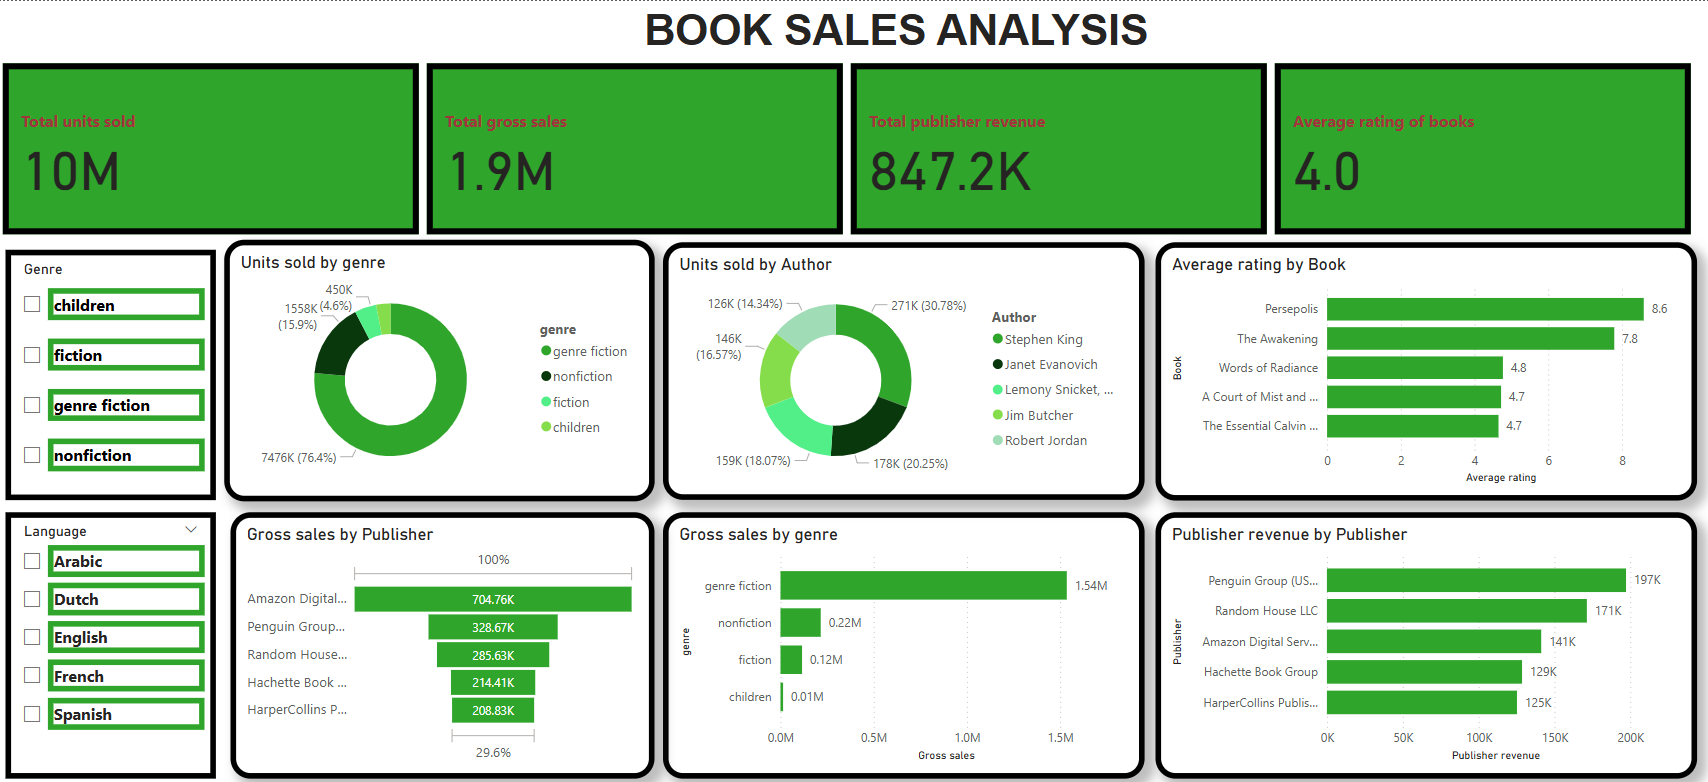

The page's visual inventory and layout, read from the dashboard file:
{"tool":"powerbi","page":{"name":"Dashboard","canvas":[1720,800],"ordinal":0},"visuals":[{"type":"cardVisual","fields":{"Data":["Books_Data_Clean.units sold","Books_Data_Clean.gross sales","Books_Data_Clean.publisher revenue","Books_Data_Clean.avg"]},"box":[0,57.5,1698.8,181.2],"z":0},{"type":"donutChart","fields":{"Category":["Books_Data_Clean.genre"],"Y":["Books_Data_Clean.units sold"]},"box":[226.2,238.8,430,261.2],"z":1000},{"type":"barChart","fields":{"Category":["Books_Data_Clean.Book Name"],"Y":["Books_Data_Clean.Book_average_rating"]},"box":[1157.5,241.2,541.2,258.8],"z":2000},{"type":"slicer","fields":{"Values":["Books_Data_Clean.genre"]},"box":[8,248.8,210,250],"z":3000},{"type":"slicer","fields":{"Values":["Books_Data_Clean.Language"]},"box":[7.5,511.2,210,266.2],"z":4000},{"type":"barChart","fields":{"Category":["Books_Data_Clean.genre"],"Y":["Books_Data_Clean.gross sales"]},"box":[665,511.2,481.2,266.2],"z":5000},{"type":"barChart","fields":{"Category":["Books_Data_Clean.Publisher "],"Y":["Books_Data_Clean.publisher revenue"]},"box":[1157.5,511.2,541.2,266.2],"z":6000},{"type":"donutChart","fields":{"Category":["Books_Data_Clean.Author"],"Y":["Books_Data_Clean.units sold"]},"box":[665,241.2,481.2,257.5],"z":7000},{"type":"funnel","fields":{"Category":["Books_Data_Clean.Publisher "],"Y":["Books_Data_Clean.gross sales"]},"box":[232.5,511.2,423.8,266.2],"z":8000},{"type":"textbox","box":[641.2,0,681.2,67.5],"z":9000}]}

Visuals, with their boxes in screenshot pixels (x1, y1, x2, y2), scaled from the page's 1720x800 canvas onto the 1708x782 screenshot:
cardVisual - Books_Data_Clean.units sold x Books_Data_Clean.gross sales: region(0, 56, 1687, 233)
donutChart - Books_Data_Clean.genre x Books_Data_Clean.units sold: region(225, 233, 652, 489)
barChart - Books_Data_Clean.Book Name x Books_Data_Clean.Book_average_rating: region(1149, 236, 1687, 489)
slicer - Books_Data_Clean.genre: region(8, 243, 216, 488)
slicer - Books_Data_Clean.Language: region(7, 500, 216, 760)
barChart - Books_Data_Clean.genre x Books_Data_Clean.gross sales: region(660, 500, 1138, 760)
barChart - Books_Data_Clean.Publisher  x Books_Data_Clean.publisher revenue: region(1149, 500, 1687, 760)
donutChart - Books_Data_Clean.Author x Books_Data_Clean.units sold: region(660, 236, 1138, 487)
funnel - Books_Data_Clean.Publisher  x Books_Data_Clean.gross sales: region(231, 500, 652, 760)
textbox: region(637, 0, 1313, 66)
